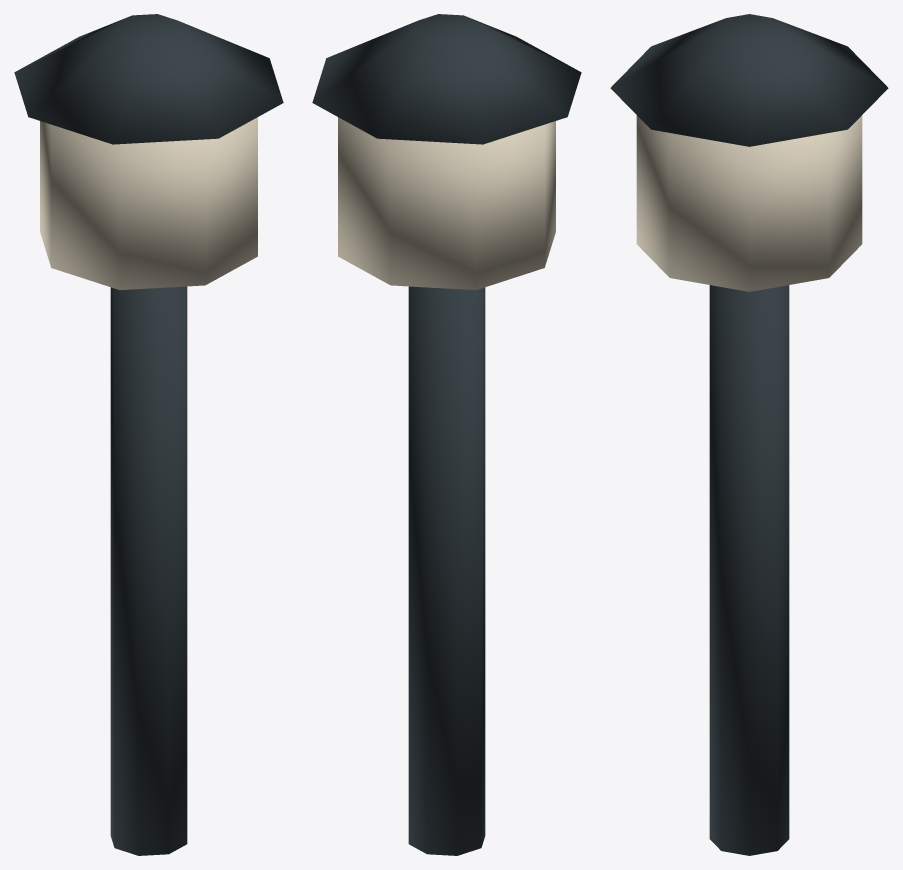
File: garden_lamp.glb
3 views of the same model, side by side, from view 1: azimuth 30°, elevation 25°; view 2: azimuth 150°, elevation 25°; view 3: azimuth 270°, elevation 25° (orthographic).
Visible parts, largest first — view 1: garden_lamp; view 2: garden_lamp; view 3: garden_lamp.
Boxes of the visible parts, bbox=[...] form: garden_lamp: bbox=[14, 14, 283, 855]; garden_lamp: bbox=[312, 14, 581, 855]; garden_lamp: bbox=[610, 14, 888, 855].
Size of the model in its own units: 0.42 by 1.35 by 0.42.
